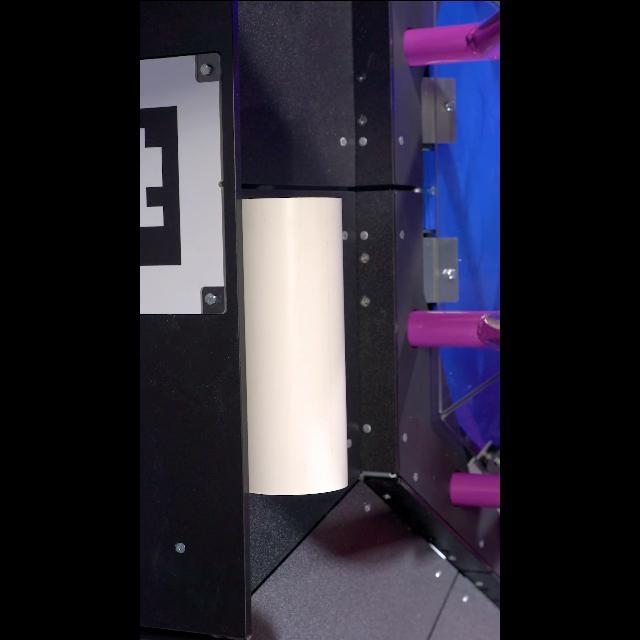CORAL: (242, 195, 350, 495)
